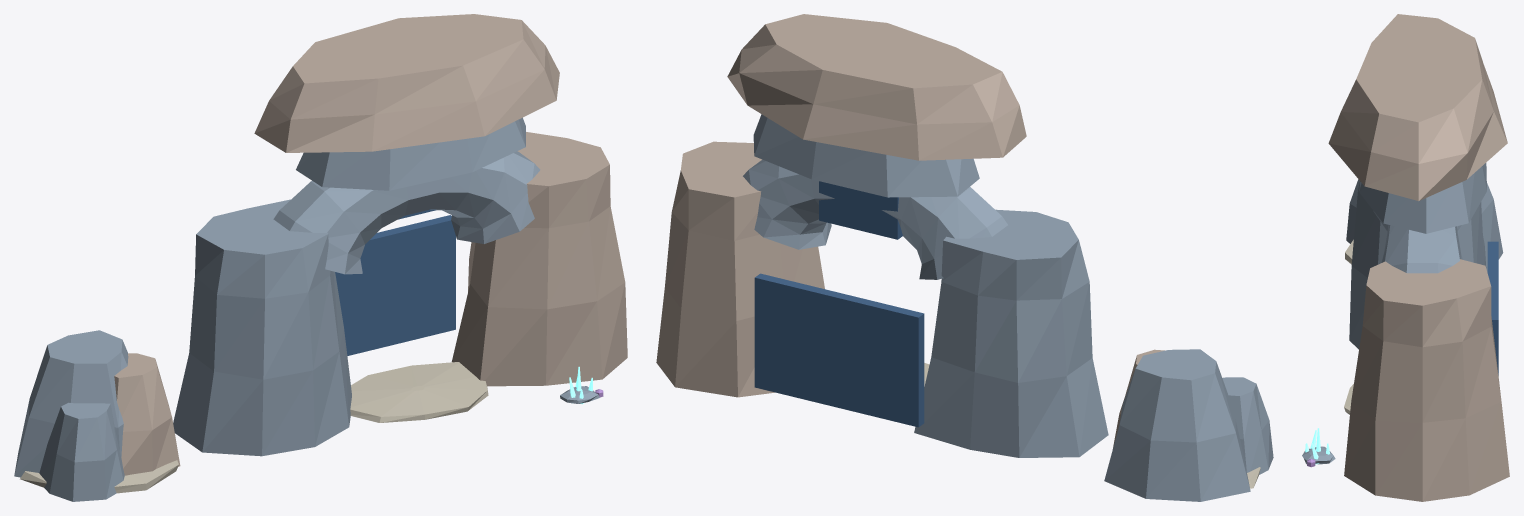
3 renders of one model, left to right at view 1: azimuth 30°, elevation 25°; view 2: azimuth 150°, elevation 25°; view 3: azimuth 270°, elevation 25°, orthographic. The views are drawn at different scales.
Parts seen in each view (by area): view 1: DL015_CaveEntranceKit_stone_blue, DL015_CaveEntranceKit_stone_warm, DL015_CaveEntranceKit_shadow_blue, DL015_CaveEntranceKit_sediment; view 2: DL015_CaveEntranceKit_stone_blue, DL015_CaveEntranceKit_stone_warm, DL015_CaveEntranceKit_shadow_blue; view 3: DL015_CaveEntranceKit_stone_warm, DL015_CaveEntranceKit_stone_blue, DL015_CaveEntranceKit_shadow_blue, DL015_CaveEntranceKit_emissive_teal, DL015_CaveEntranceKit_sediment.
Part boxes in pixels (x1,y1,x2,y2): DL015_CaveEntranceKit_stone_blue: (14,117,599,501); DL015_CaveEntranceKit_stone_warm: (114,14,627,475); DL015_CaveEntranceKit_shadow_blue: (335,209,455,355); DL015_CaveEntranceKit_sediment: (20,362,488,493); DL015_CaveEntranceKit_stone_blue: (743,114,1273,501); DL015_CaveEntranceKit_stone_warm: (656,14,1164,447); DL015_CaveEntranceKit_shadow_blue: (754,181,924,427); DL015_CaveEntranceKit_stone_warm: (1328,14,1509,501); DL015_CaveEntranceKit_stone_blue: (1302,163,1503,464); DL015_CaveEntranceKit_shadow_blue: (1487,241,1498,375); DL015_CaveEntranceKit_emissive_teal: (1305,428,1329,464); DL015_CaveEntranceKit_sediment: (1344,239,1353,414).
Size of the model in its own units: 18.04 by 10 by 5.6.
